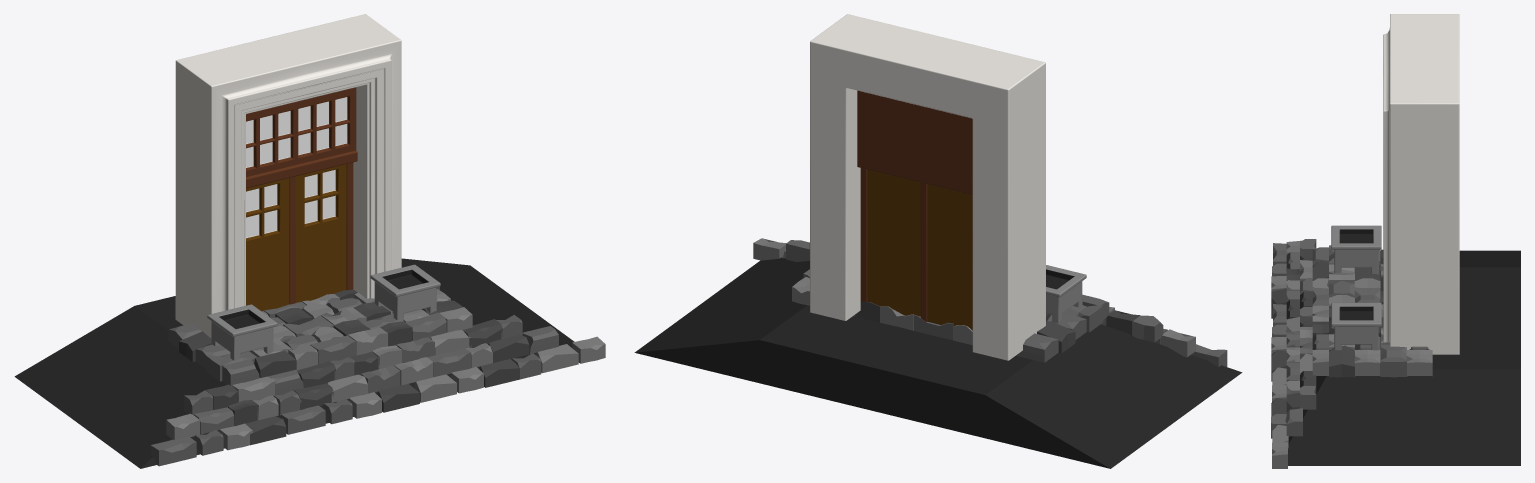
The model's file is MainMenu.fbx.
3 views of the same model, side by side, from view 1: azimuth 30°, elevation 25°; view 2: azimuth 150°, elevation 25°; view 3: azimuth 270°, elevation 25° (orthographic). The views are drawn at different scales.
Parts seen in each view (by area): view 1: Cube.001, Cube.002, Cube.004, Cube.005, Cube.003, Cube.007, Cube.037, Cube.044, Cube.006, Cube.011, Cube.027, Cube.041 (+26 smaller); view 2: Cube.002, Cube.001, Cube.004, Cube.005, Cube.003, Cube.006, Cube.007, Cube.071, Cube.056, Cube.031, Cube.080, Cube.066; view 3: Cube.002, Cube.001, Cube.003, Cube.082, Cube.055, Cube.078, Cube.053, Cube.024, Cube.015, Cube.033, Cube.049, Cube.058 (+11 smaller).
Boxes of the visible parts, left/top/right/bottom form: Cube.001: left=175, top=14, right=401, bottom=337; Cube.002: left=14, top=258, right=574, bottom=468; Cube.004: left=246, top=164, right=346, bottom=311; Cube.005: left=246, top=87, right=357, bottom=188; Cube.003: left=207, top=264, right=440, bottom=360; Cube.007: left=346, top=162, right=353, bottom=290; Cube.037: left=150, top=437, right=196, bottom=466; Cube.044: left=279, top=405, right=325, bottom=434; Cube.006: left=289, top=176, right=295, bottom=304; Cube.011: left=310, top=335, right=355, bottom=364; Cube.027: left=427, top=348, right=471, bottom=376; Cube.041: left=377, top=384, right=419, bottom=412; Cube.002: left=634, top=257, right=1242, bottom=468; Cube.001: left=810, top=14, right=1045, bottom=360; Cube.004: left=867, top=169, right=972, bottom=330; Cube.005: left=857, top=90, right=972, bottom=194; Cube.003: left=1046, top=265, right=1086, bottom=323; Cube.006: left=920, top=182, right=927, bottom=321; Cube.007: left=860, top=168, right=867, bottom=301; Cube.071: left=1016, top=333, right=1058, bottom=362; Cube.056: left=1132, top=315, right=1163, bottom=342; Cube.031: left=1161, top=329, right=1195, bottom=357; Cube.080: left=1037, top=321, right=1075, bottom=353; Cube.066: left=1063, top=305, right=1103, bottom=332; Cube.002: left=1288, top=250, right=1520, bottom=465; Cube.001: left=1383, top=14, right=1459, bottom=354; Cube.003: left=1331, top=225, right=1381, bottom=350; Cube.082: left=1381, top=344, right=1406, bottom=377; Cube.055: left=1329, top=345, right=1354, bottom=377; Cube.078: left=1406, top=349, right=1432, bottom=376; Cube.053: left=1354, top=349, right=1380, bottom=376; Cube.024: left=1286, top=408, right=1302, bottom=436; Cube.015: left=1312, top=349, right=1328, bottom=375; Cube.033: left=1272, top=442, right=1287, bottom=468; Cube.049: left=1354, top=287, right=1380, bottom=302; Cube.058: left=1300, top=385, right=1316, bottom=409.
Bounding box in the file's own units: 469 × 299 × 227.
